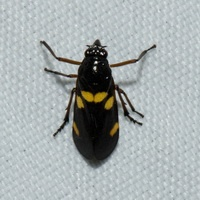insect: (40, 39, 155, 159)
